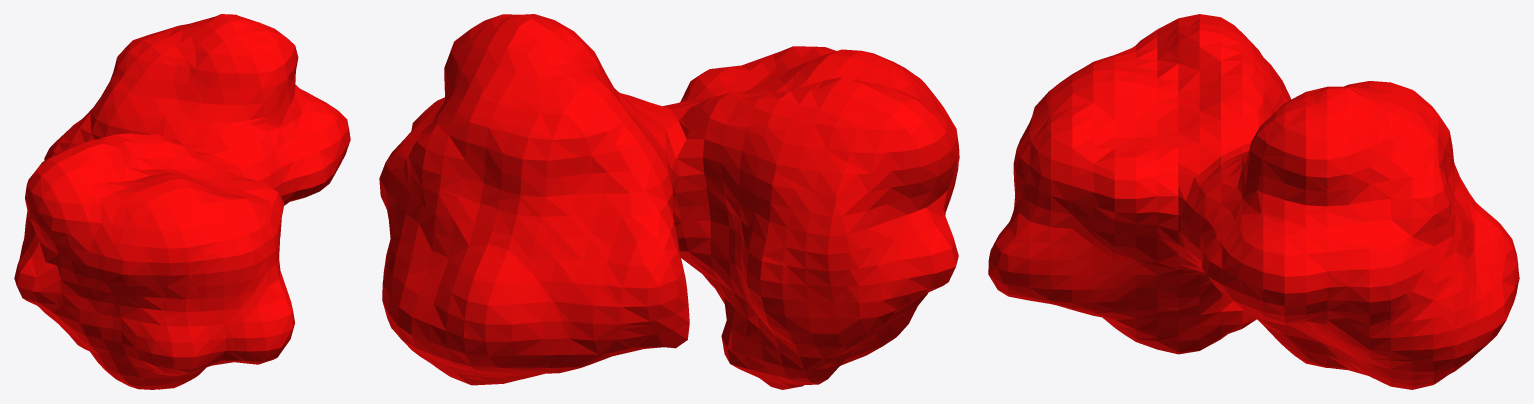
File: hemD_coarse.dae
3 views of the same model, side by side, from view 1: azimuth 30°, elevation 25°; view 2: azimuth 150°, elevation 25°; view 3: azimuth 270°, elevation 25° (orthographic). The views are drawn at different scales.
Parts seen in each view (by area): view 1: hemD; view 2: hemD; view 3: hemD.
Part boxes in pixels (<box>): hemD: <box>14,14,350,389</box>; hemD: <box>379,14,959,389</box>; hemD: <box>988,14,1519,389</box>.
Bounding box in the file's own units: 62.58 × 46.51 × 65.65.
